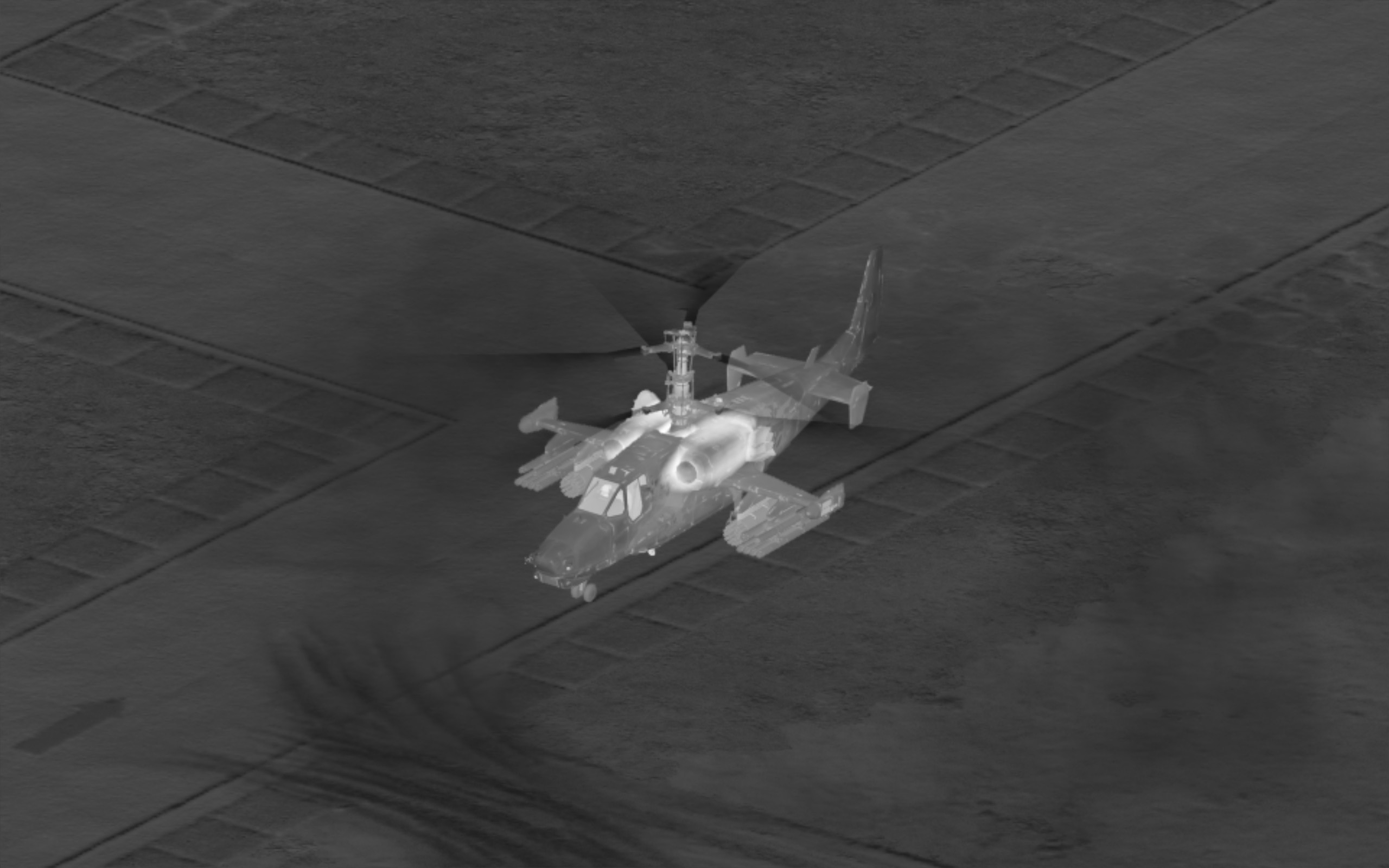ka50: (516, 244, 886, 602)
